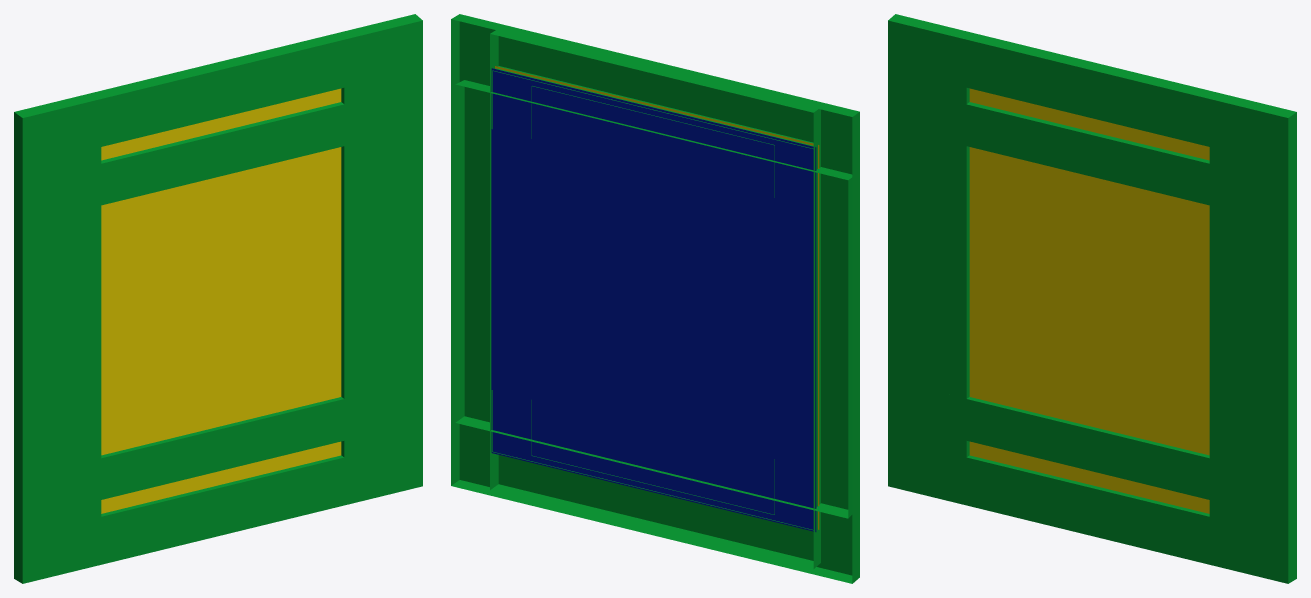
The model's file is SchemeFrames.fbx.
The picture shows the model from 3 angles, left to right: view 1: azimuth 30°, elevation 25°; view 2: azimuth 150°, elevation 25°; view 3: azimuth 330°, elevation 25°; orthographic projection.
Parts seen in each view (by area): view 1: SchemeFrame2, SchemeFrame3, SchemeFrame1; view 2: SchemeFrame1, SchemeFrame3, SchemeFrame2; view 3: SchemeFrame2, SchemeFrame3, SchemeFrame1.
Part boxes in pixels (bbox=[...]): SchemeFrame2: bbox=[61, 35, 383, 531]; SchemeFrame3: bbox=[14, 14, 422, 583]; SchemeFrame1: bbox=[27, 102, 417, 517]; SchemeFrame1: bbox=[455, 80, 852, 518]; SchemeFrame3: bbox=[451, 14, 859, 583]; SchemeFrame2: bbox=[490, 30, 820, 569]; SchemeFrame2: bbox=[927, 44, 1249, 568]; SchemeFrame3: bbox=[888, 14, 1296, 583]; SchemeFrame1: bbox=[893, 102, 1283, 517].
Bounding box in the file's own units: 0.7781 × 0.8648 × 0.0269.
